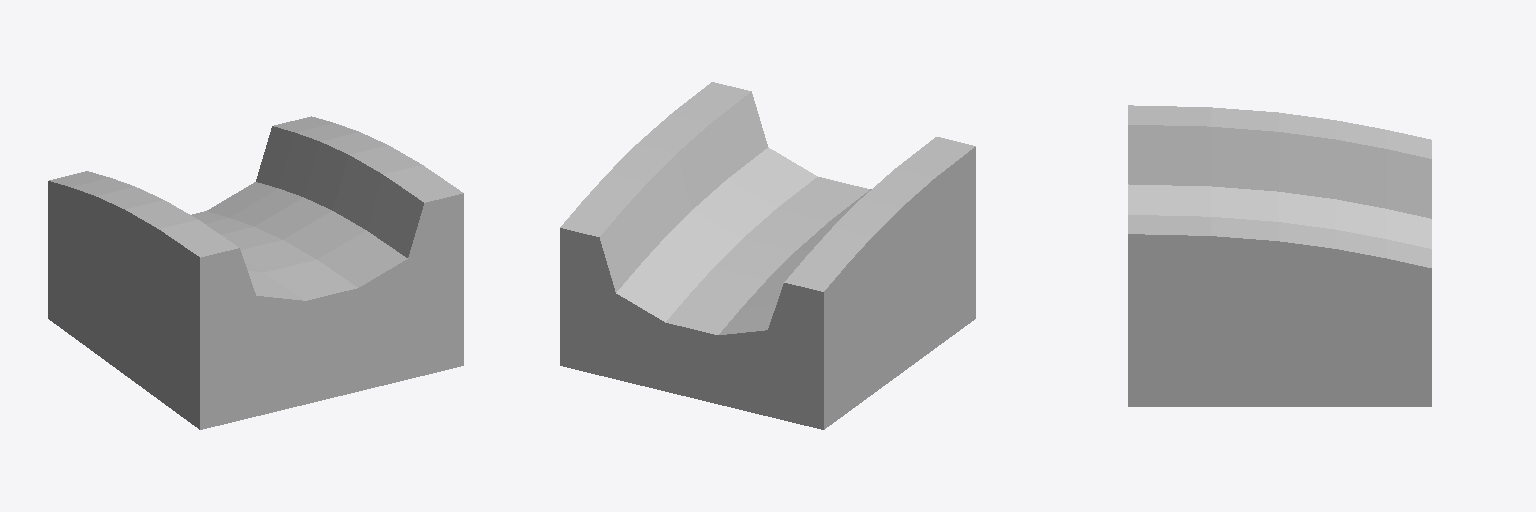
The model's file is ramp-end-solid-a.obj.
The picture shows the model from 3 angles: view 1: azimuth 30°, elevation 25°; view 2: azimuth 150°, elevation 25°; view 3: azimuth 270°, elevation 25°; orthographic projection.
Parts seen in each view (by area): view 1: ramp-end-solid-a; view 2: ramp-end-solid-a; view 3: ramp-end-solid-a.
Boxes of the visible parts, box(x1,y1,x2,y2) form: ramp-end-solid-a: box(48, 116, 463, 429); ramp-end-solid-a: box(560, 82, 975, 429); ramp-end-solid-a: box(1128, 105, 1431, 406).
Bounding box in the file's own units: 1 × 0.625 × 1.